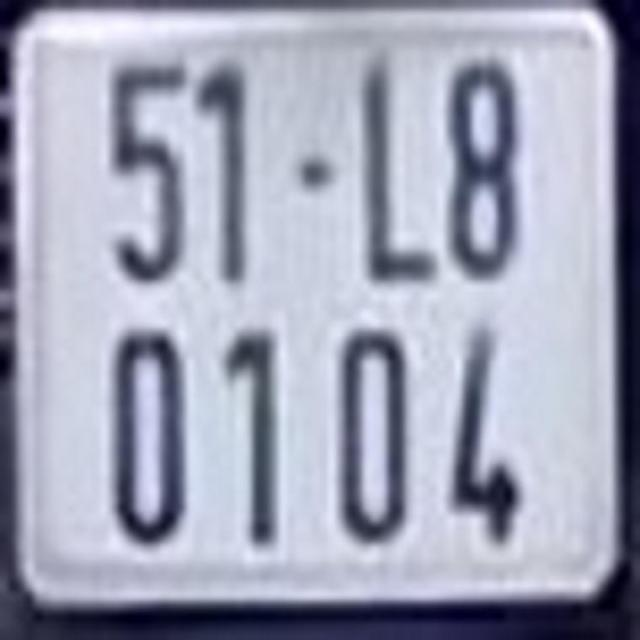0: (114, 328, 193, 542), (338, 328, 406, 544)
1: (220, 324, 294, 546), (197, 62, 261, 284)
4: (456, 321, 528, 546)
5: (108, 61, 193, 280)
8: (450, 57, 520, 281)
L: (357, 50, 443, 289)
